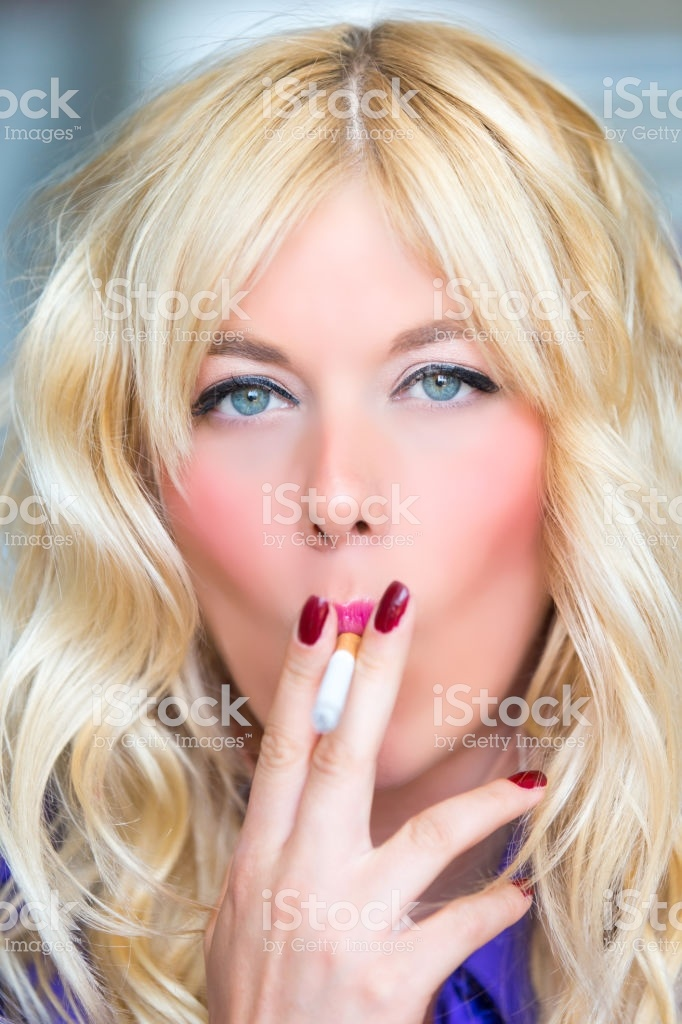sigaretta: (301, 624, 372, 733)
